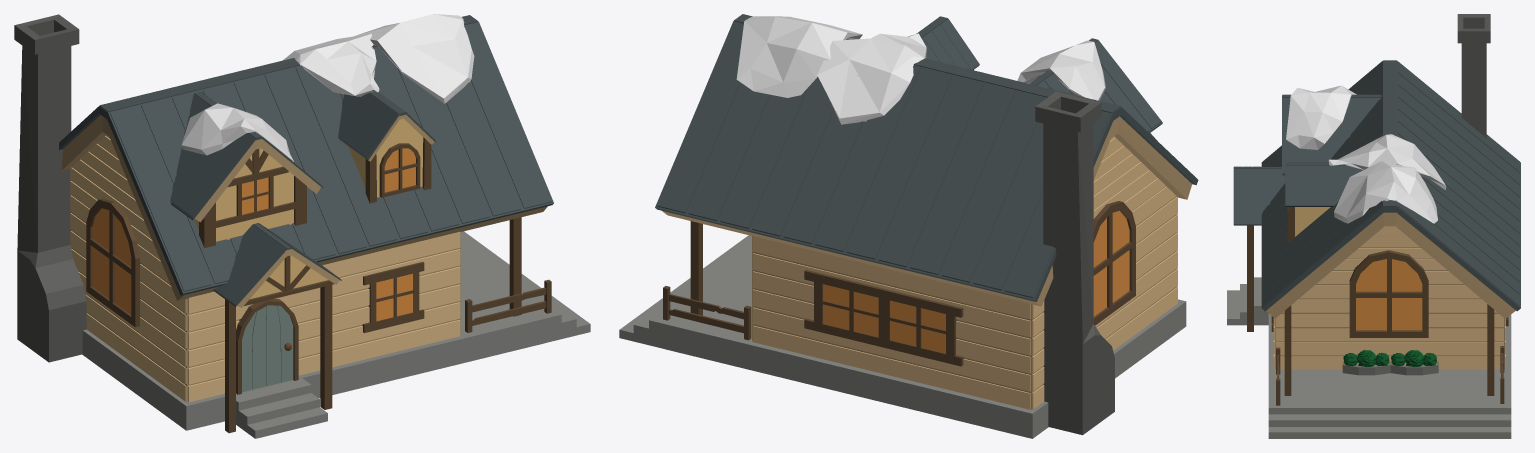
The model's file is FH_House1.fbx.
3 renders of one model, left to right at view 1: azimuth 30°, elevation 25°; view 2: azimuth 150°, elevation 25°; view 3: azimuth 270°, elevation 25°, orthographic. The views are drawn at different scales.
Parts seen in each view (by area): view 1: Cube.029; view 2: Cube.029; view 3: Cube.029.
Part boxes in pixels (<box>): Cube.029: <box>14,14,590,438</box>; Cube.029: <box>619,14,1198,438</box>; Cube.029: <box>1227,14,1520,438</box>.
Size of the model in its own units: 5056 by 3452 by 3639.
